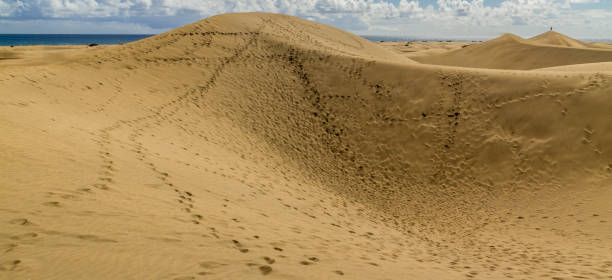human_foot_print: (1, 36, 242, 270), (139, 137, 273, 276)
